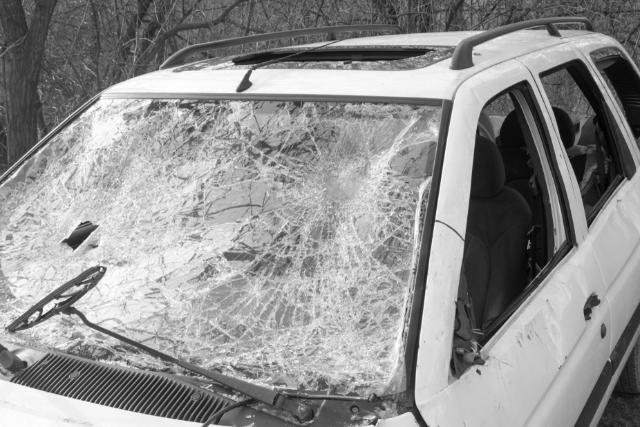Windshield: (0, 95, 440, 391)
